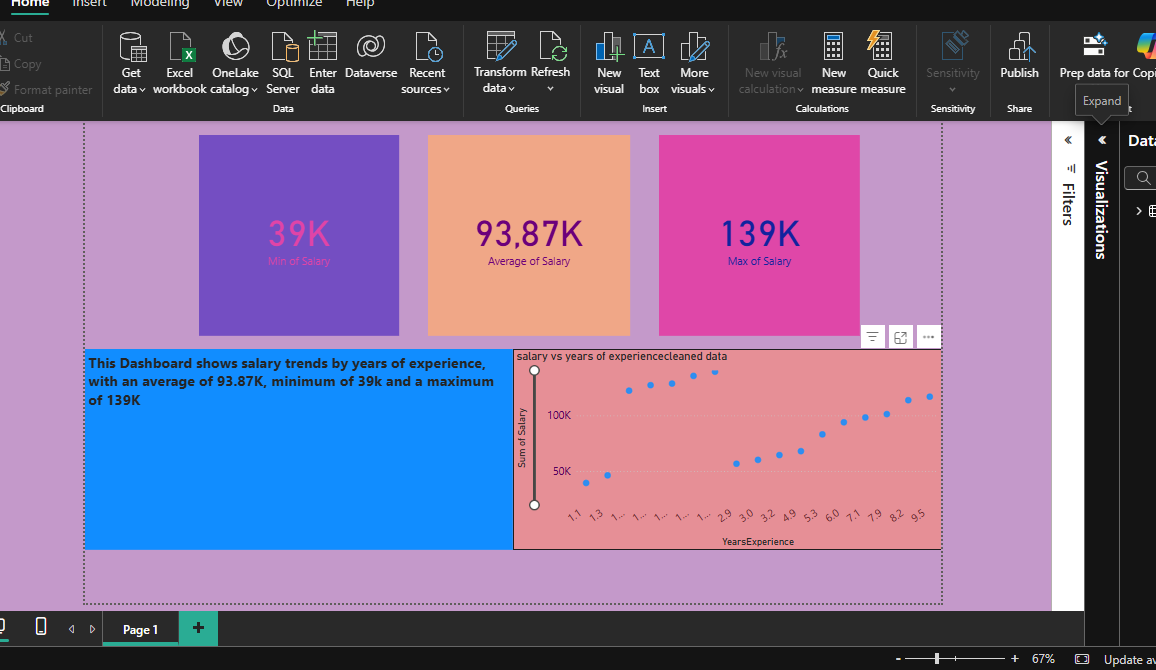

The page's visual inventory and layout, read from the dashboard file:
{"tool":"powerbi","page":{"name":"Page 1","canvas":[1280,720],"ordinal":0},"visuals":[{"type":"scatterChart","title":"salary vs years of experiencecleaned data","fields":{"X":["workers_clean.YearsExperience"],"Y":["Sum(workers_clean.Salary)"]},"box":[0,0,281.2,280],"z":0},{"type":"card","fields":{"Values":["Avg(workers_clean.Salary)"]},"box":[843.8,0,301.2,300],"z":1},{"type":"card","fields":{"Values":["Min(workers_clean.Salary)"]},"box":[531.2,0,300,300],"z":2},{"type":"card","fields":{"Values":["Max(workers_clean.Salary)"]},"box":[665,300,300,300],"z":3},{"type":"textbox","box":[0,300,281,300],"z":4}]}

Visuals, with their boxes on the page's 1280x720 design canvas (x1, y1, x2, y2). These are canvas units, not pixel positions in the 1156x670 screenshot, which may show the page scaled, cropped or inside an application window:
"salary vs years of experiencecleaned data" scatterChart: select_region(0, 0, 281, 280)
card - Avg(workers_clean.Salary): select_region(844, 0, 1145, 300)
card - Min(workers_clean.Salary): select_region(531, 0, 831, 300)
card - Max(workers_clean.Salary): select_region(665, 300, 965, 600)
textbox: select_region(0, 300, 281, 600)
